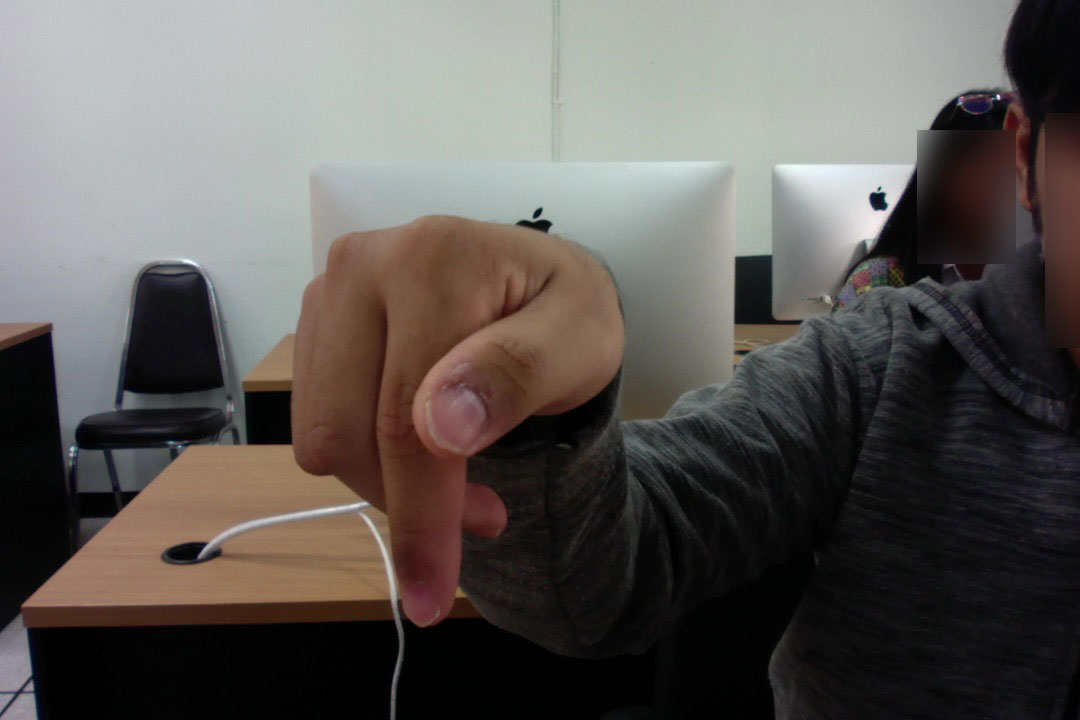por: (284, 212, 641, 630)
